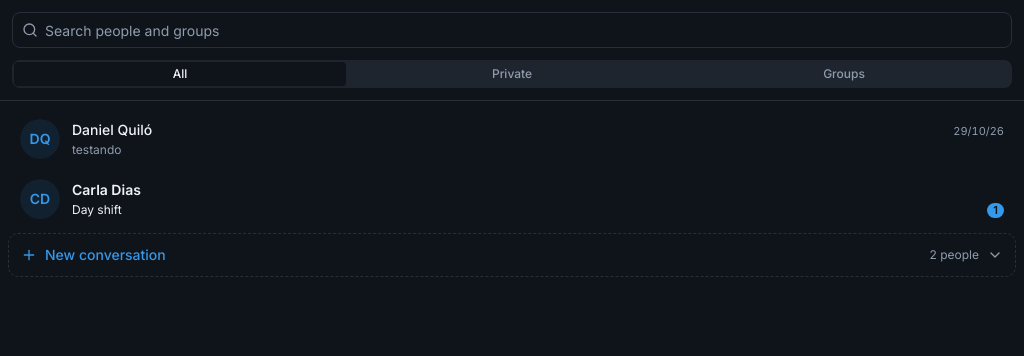
Test: ConversationList — conversations first › opens everybody on the button
Step 1. Click the button "New conversation 2 people" → (105, 254), box [8,233,1016,277]
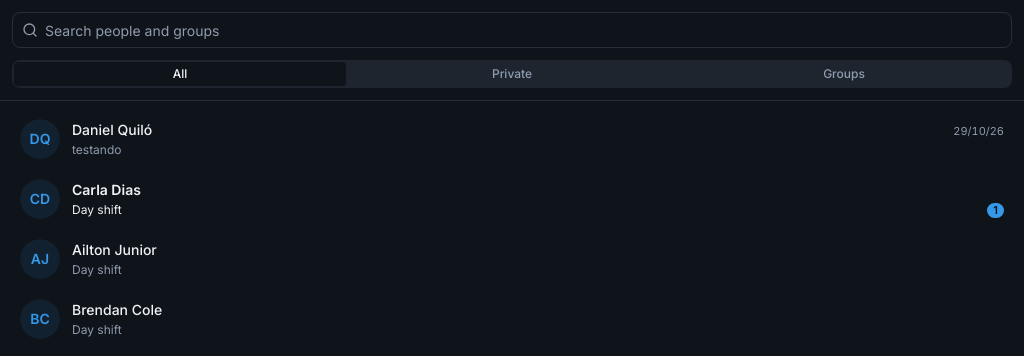
Result: the text "Ailton Junior" is shown at [72,240,157,260]
Result: the text "Brendan Cole" is shown at [72,300,162,320]
